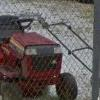Tractor: (3, 10, 81, 100)
